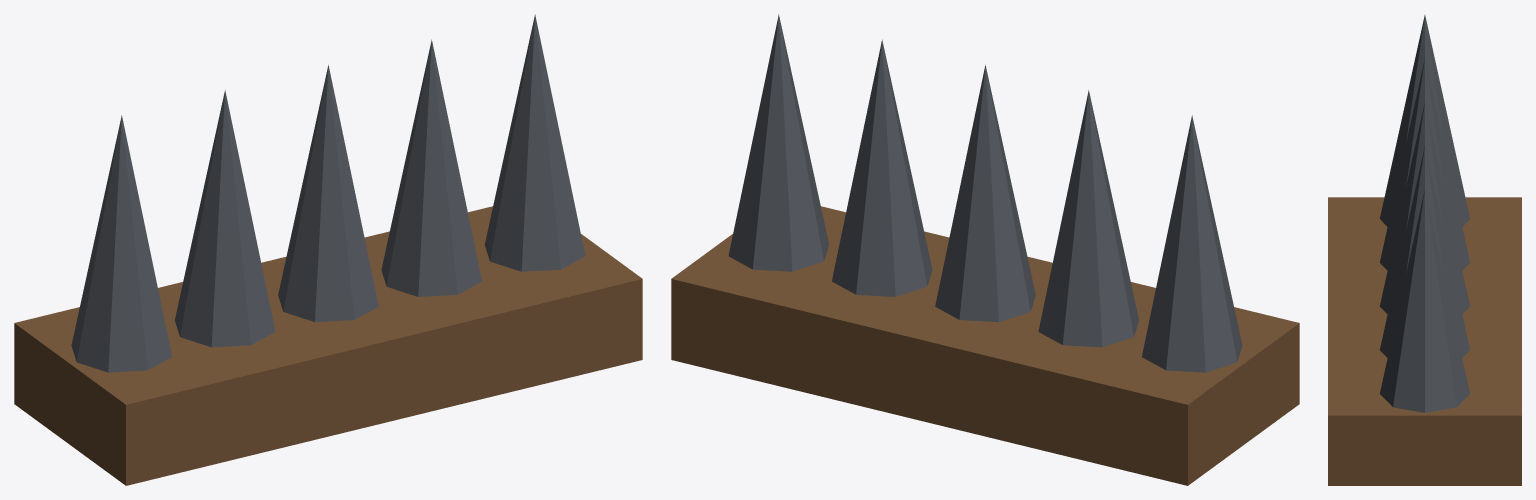
Rendered from spikes.glb.
The picture shows the model from 3 angles, left to right: view 1: azimuth 30°, elevation 25°; view 2: azimuth 150°, elevation 25°; view 3: azimuth 270°, elevation 25°; orthographic projection. The views are drawn at different scales.
Visible parts, largest first — view 1: Spikes; view 2: Spikes; view 3: Spikes.
Part boxes in pixels (box(x1,y1,x2,y2)): Spikes: box(14, 14, 642, 485); Spikes: box(671, 14, 1299, 485); Spikes: box(1328, 15, 1521, 485).
Size of the model in its own units: 0.8 by 0.47 by 0.3.
